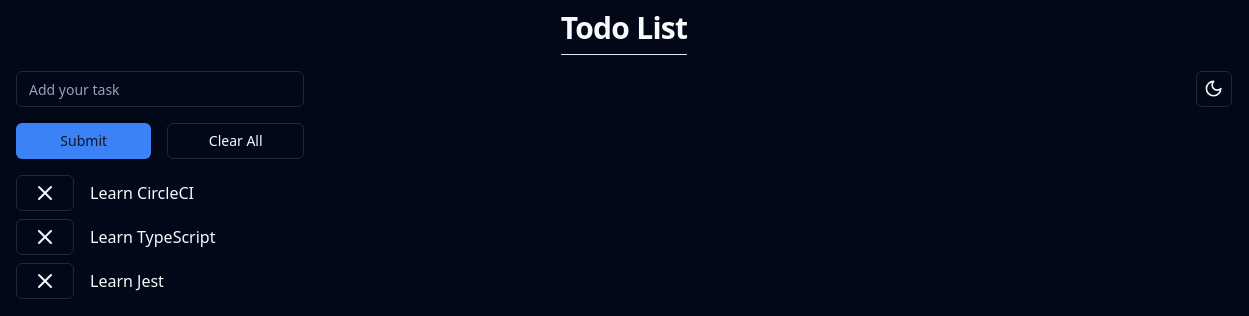
Test: Todo Component › can remove a task
Click the button named "Remove Task" next to "Learn CircleCI" at [45, 193], box [16,175,74,211]
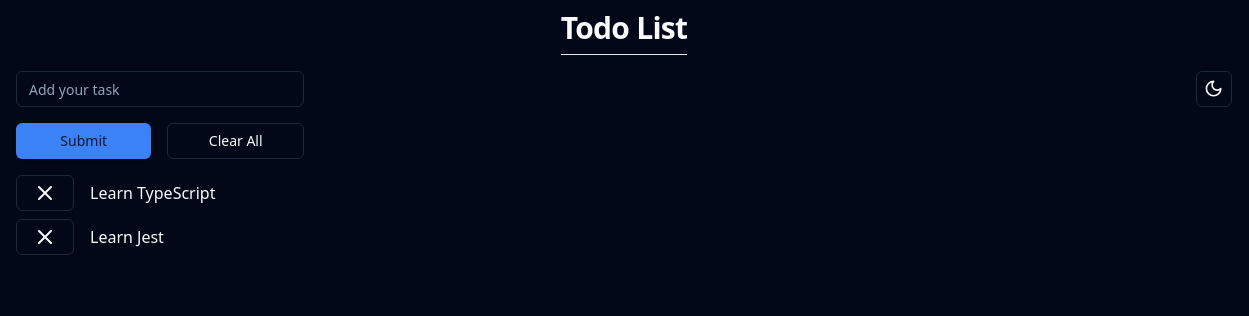
Expected: the text "Learn CircleCI" is not shown
